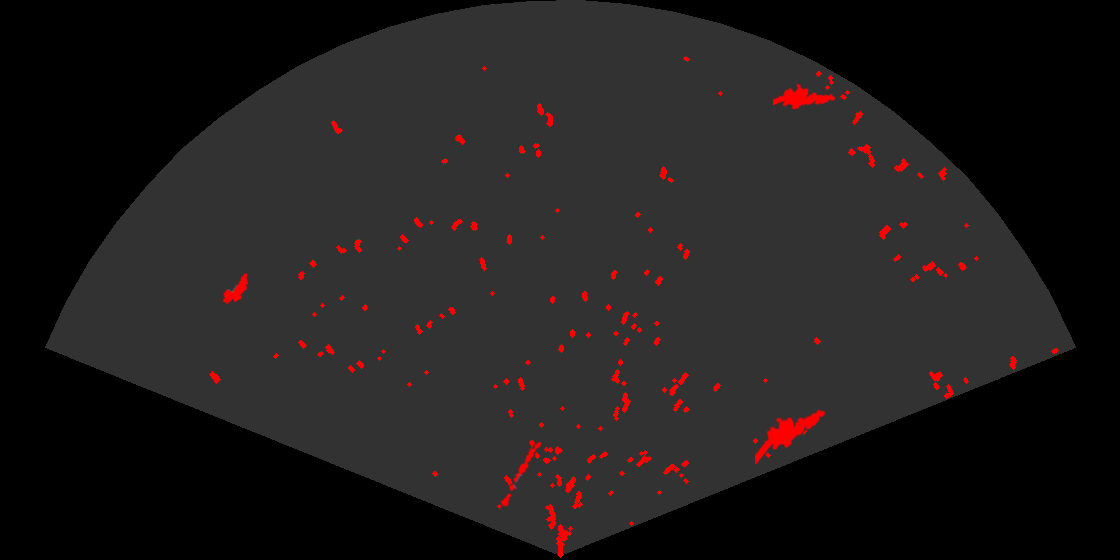AUV: (221, 271, 250, 306)
chain: (499, 431, 546, 510)
frogman: (755, 408, 827, 464), (773, 82, 837, 111)
